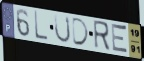6: (15, 8, 31, 38)
D: (72, 16, 91, 47)
E: (111, 22, 129, 56)
L: (33, 10, 48, 42)
R: (92, 19, 112, 53)
U: (54, 14, 72, 44)
